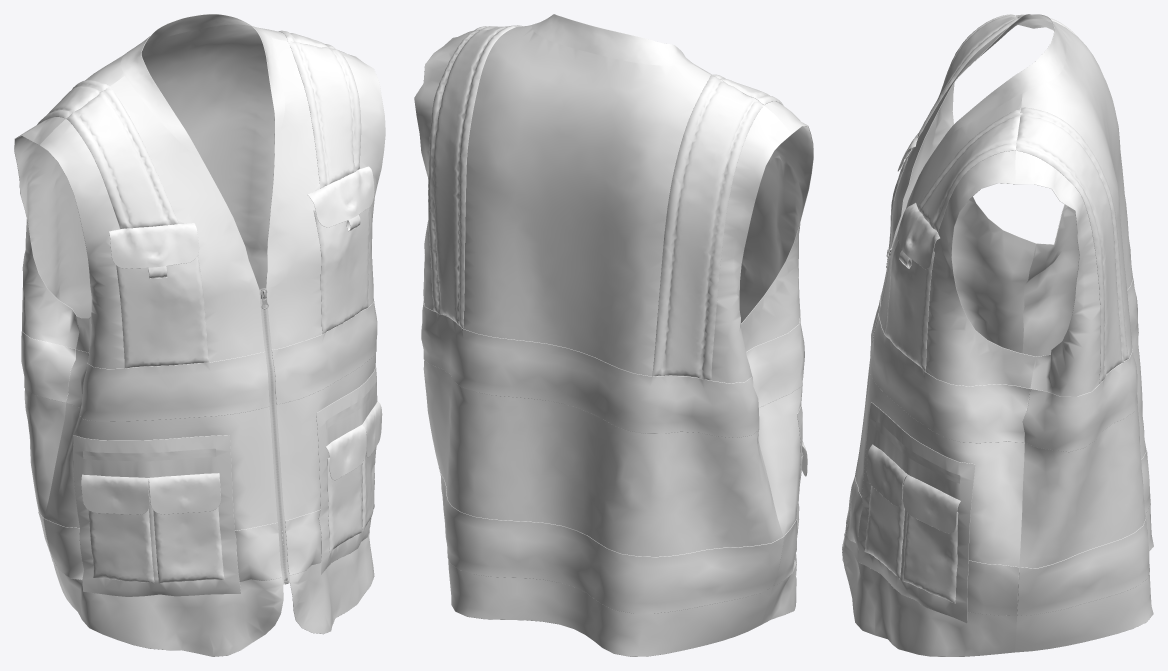
The model's file is MV2_Hi-Vis Zipper Front Black Safety Vest_fbx_thick.fbx.
The picture shows the model from 3 angles, left to right: view 1: azimuth 30°, elevation 25°; view 2: azimuth 150°, elevation 25°; view 3: azimuth 270°, elevation 25°; orthographic projection. The views are drawn at different scales.
Visible parts, largest first — view 1: MV2_Hi-Vis Zipper Front Black Safety Vest_fbx_thick; view 2: MV2_Hi-Vis Zipper Front Black Safety Vest_fbx_thick; view 3: MV2_Hi-Vis Zipper Front Black Safety Vest_fbx_thick.
Part boxes in pixels (bbox=[...]): MV2_Hi-Vis Zipper Front Black Safety Vest_fbx_thick: bbox=[14, 14, 385, 656]; MV2_Hi-Vis Zipper Front Black Safety Vest_fbx_thick: bbox=[414, 14, 813, 656]; MV2_Hi-Vis Zipper Front Black Safety Vest_fbx_thick: bbox=[842, 14, 1153, 656].
Bounding box in the file's own units: 42.51 × 69.73 × 34.25.
